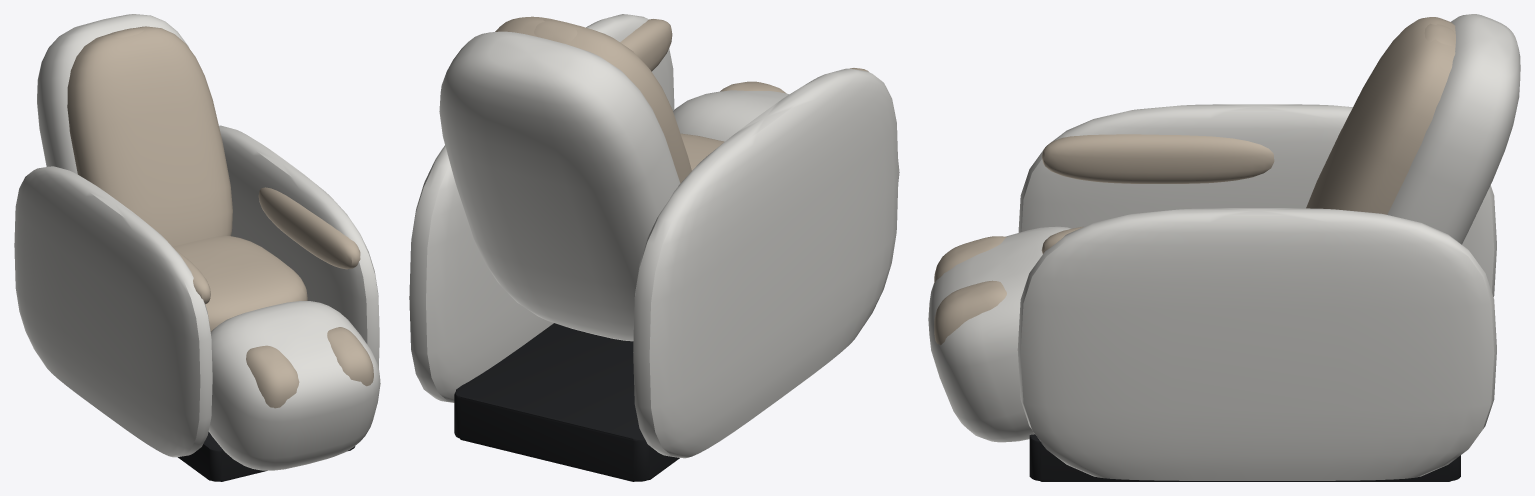
The picture shows the model from 3 angles, left to right: view 1: azimuth 30°, elevation 25°; view 2: azimuth 150°, elevation 25°; view 3: azimuth 270°, elevation 25°; orthographic projection. The views are drawn at different scales.
Visible parts, largest first — view 1: MH81CC; view 2: MH81CC; view 3: MH81CC.
Part boxes in pixels (x1,y1,x2,y2): MH81CC: (14,14,380,481); MH81CC: (409,14,899,481); MH81CC: (928,14,1520,481).
Bounding box in the file's own units: 0.755 × 1.14 × 1.51.
